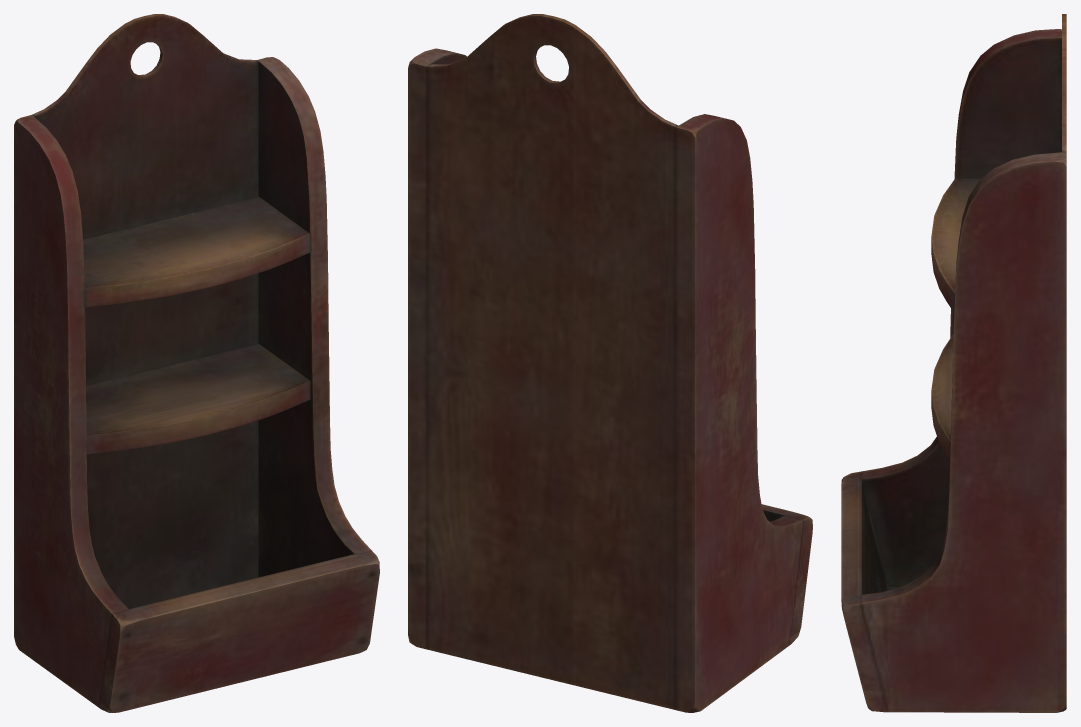
Rendered from painted_wooden_shelves.glb.
3 renders of one model, left to right at view 1: azimuth 30°, elevation 25°; view 2: azimuth 150°, elevation 25°; view 3: azimuth 270°, elevation 25°, orthographic. The views are drawn at different scales.
Visible parts, largest first — view 1: painted_wooden_shelves; view 2: painted_wooden_shelves; view 3: painted_wooden_shelves.
Part boxes in pixels (box(x1,y1,x2,y2)): painted_wooden_shelves: box(14, 14, 379, 712); painted_wooden_shelves: box(408, 14, 812, 712); painted_wooden_shelves: box(841, 14, 1066, 712).
Size of the model in its own units: 0.5111 by 1.13 by 0.3671.
1 material, 1 textured.
